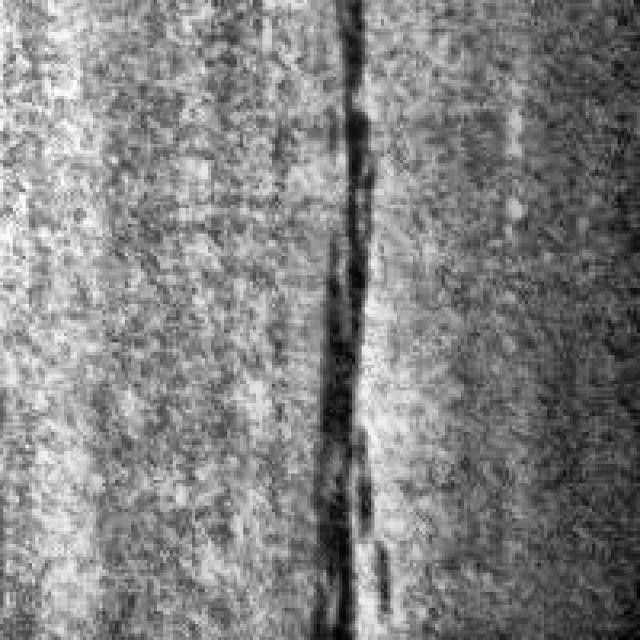Patches: (285, 0, 397, 630)
